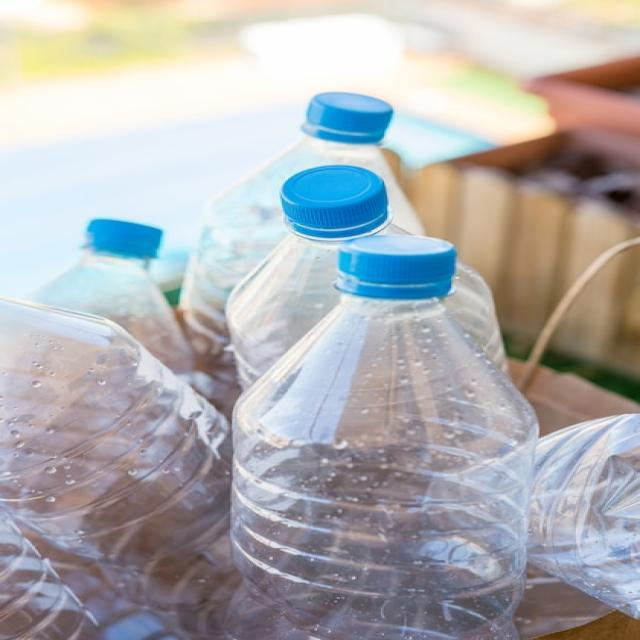plastic_bottle: (286, 233, 504, 640), (176, 173, 344, 358)
